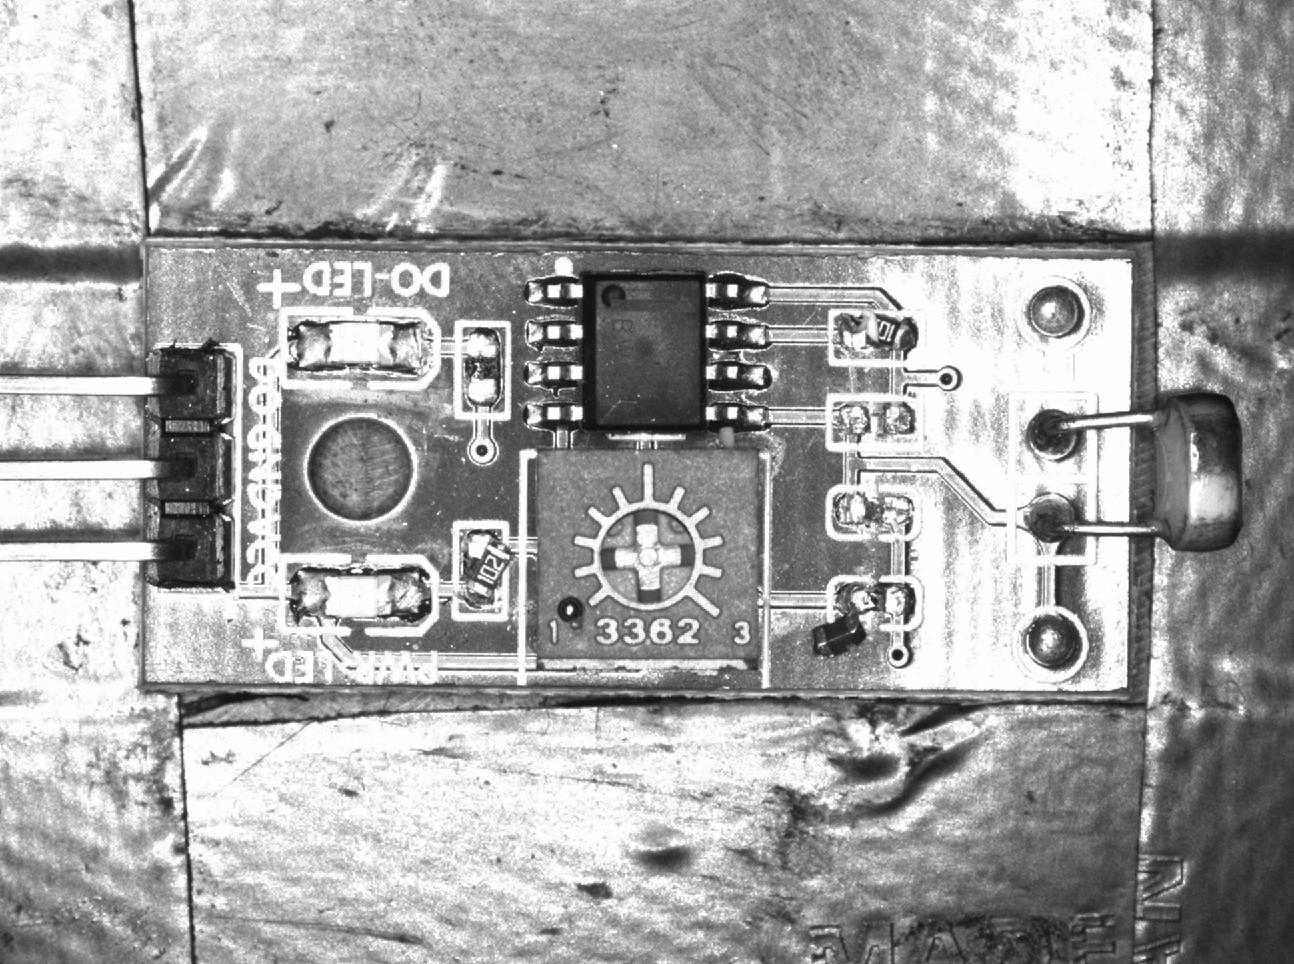bridge: (829, 485, 921, 543), (828, 396, 923, 452), (461, 323, 507, 420), (826, 578, 915, 629)
lifted: (830, 306, 924, 368), (456, 524, 514, 617)
